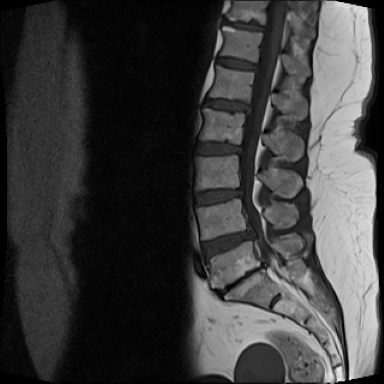Degenerative Disc Disease (DDD): (210, 256, 270, 304), (214, 15, 265, 37)
Lumbar Disc Bulge (LDB): (213, 254, 275, 301), (196, 223, 264, 261), (185, 185, 247, 214), (194, 96, 255, 122), (188, 136, 246, 162)
Spinal Stenosis (SS): (241, 219, 259, 250), (234, 99, 257, 123), (230, 176, 248, 206), (243, 54, 263, 79), (255, 250, 272, 277), (230, 139, 248, 159)
Thoracic Disc Bulge (TDB): (208, 50, 260, 77)
